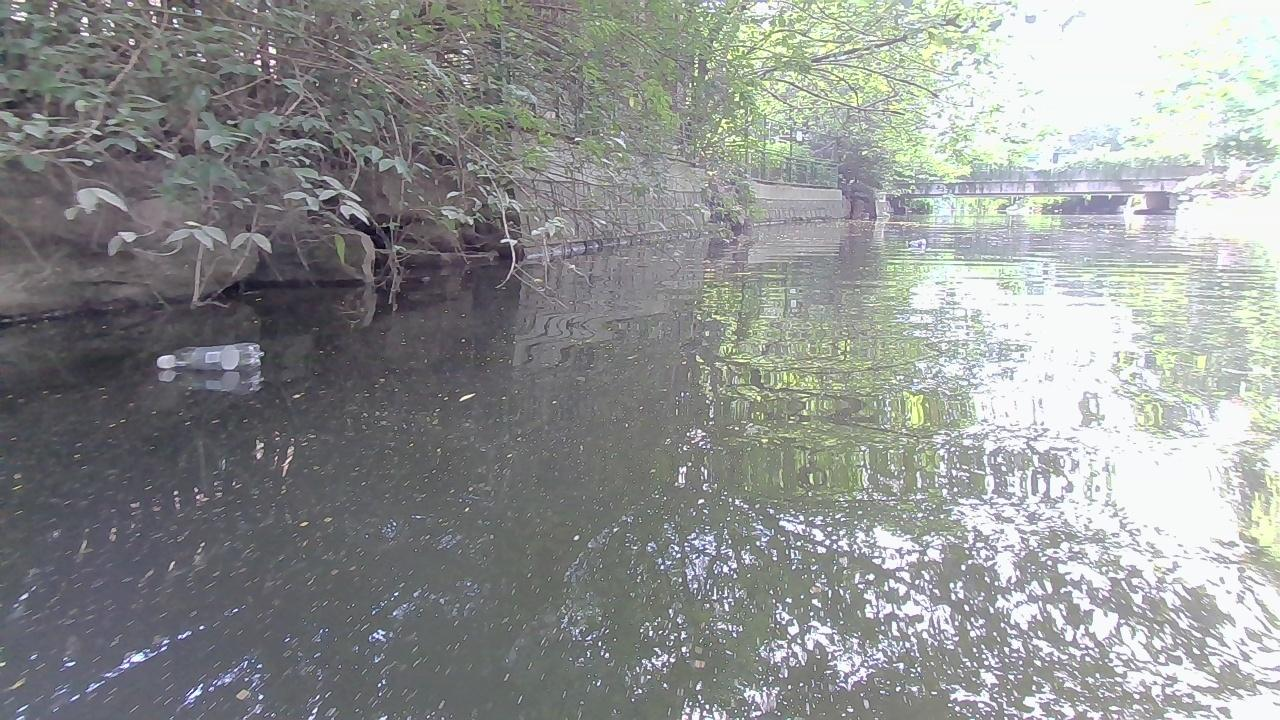bottle: (150, 341, 262, 373), (903, 236, 927, 251)
